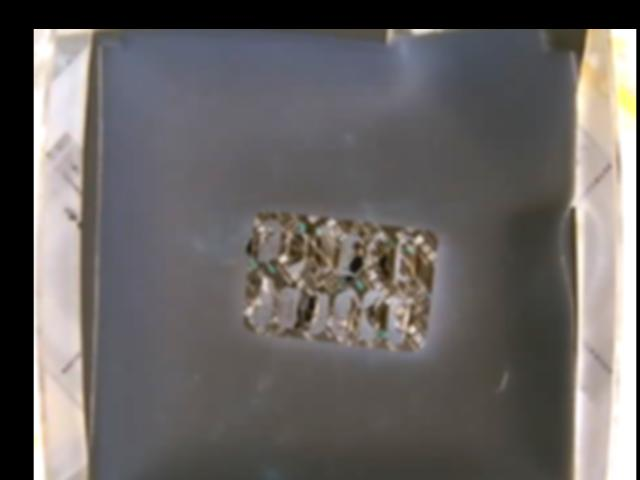Medicine: (242, 212, 436, 350)
